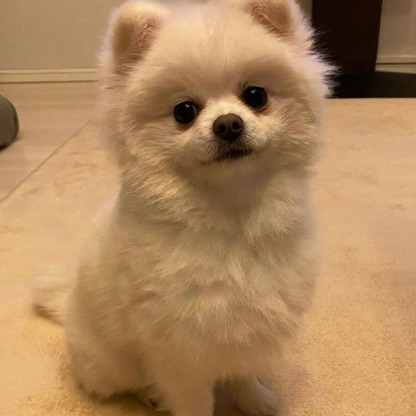Pomeranian: (74, 12, 327, 402)
